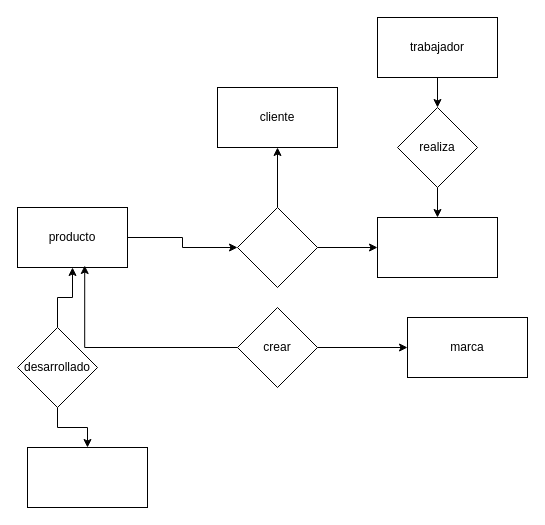
Image size: 545x525. Some labels were removed from this diagram. The shapes that lost their labels are listed below. From the top down, each one's box as (x1, y1, x2, y2) in pixels, then its label:
(236, 206, 318, 288): compra
(376, 216, 498, 278): venta
(26, 446, 148, 508): platarforma
